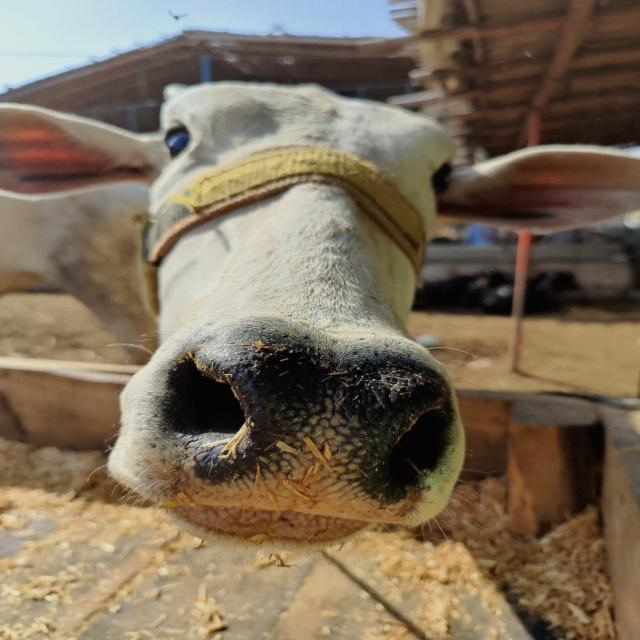muzzles: (158, 316, 470, 529)
